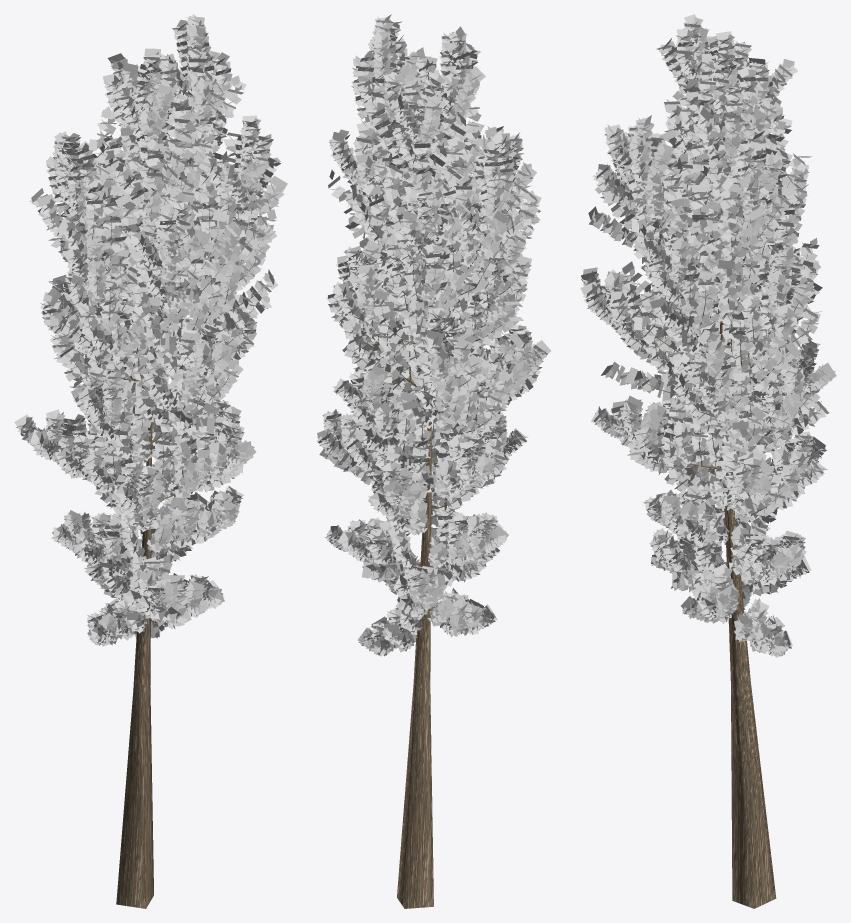
File: Baum 3.fbx
3 views of the same model, side by side, from view 1: azimuth 30°, elevation 25°; view 2: azimuth 150°, elevation 25°; view 3: azimuth 270°, elevation 25° (orthographic). The views are drawn at different scales.
Visible parts, largest first — view 1: leaves, tree; view 2: leaves, tree; view 3: leaves, tree.
Boxes of the visible parts, left/top/right/bottom form: leaves: left=14, top=14, right=287, bottom=646; tree: left=52, top=74, right=263, bottom=908; leaves: left=316, top=14, right=550, bottom=656; tree: left=329, top=57, right=532, bottom=908; leaves: left=580, top=14, right=836, bottom=657; tree: left=600, top=121, right=817, bottom=908.
Size of the model in its own units: 5.17 by 20.49 by 5.36.
